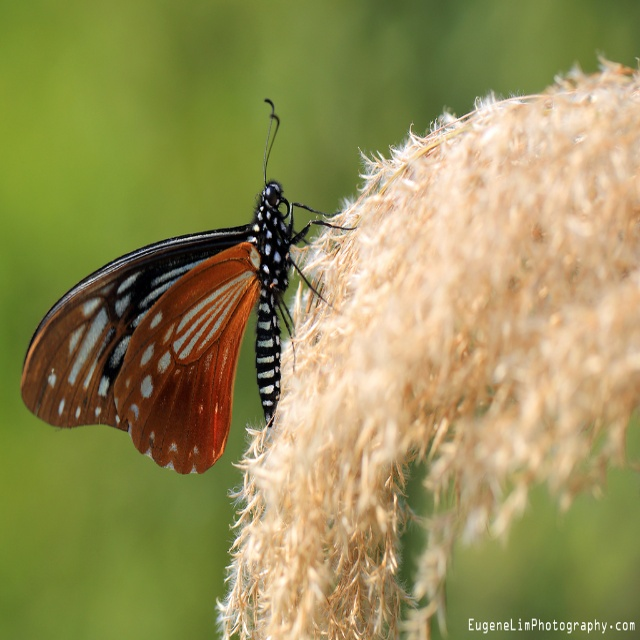Butterfly: (25, 98, 342, 481)
